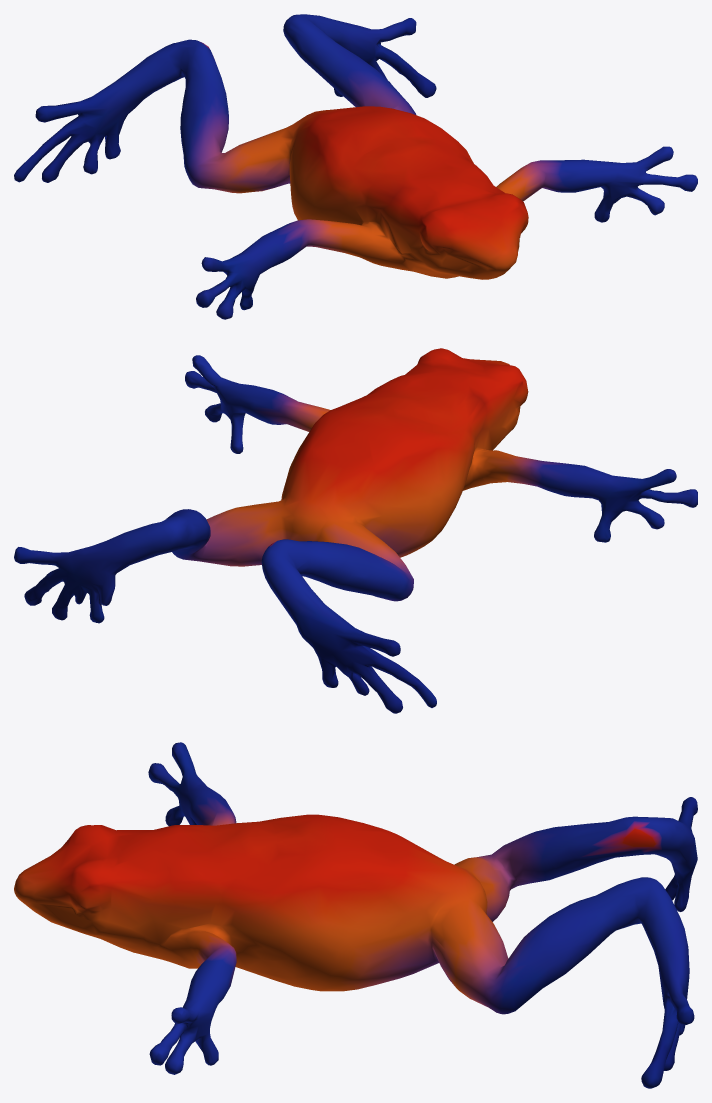
Rendered from strawberry.swim.lo.glb.
3 views of the same model, one above another, from view 1: azimuth 30°, elevation 25°; view 2: azimuth 150°, elevation 25°; view 3: azimuth 270°, elevation 25° (orthographic). The views are drawn at different scales.
Visible parts, largest first — view 1: strawberry.swim; view 2: strawberry.swim; view 3: strawberry.swim.
Boxes of the visible parts, bbox=[...] form: strawberry.swim: bbox=[14, 14, 697, 319]; strawberry.swim: bbox=[14, 348, 697, 713]; strawberry.swim: bbox=[14, 742, 697, 1088].
Size of the model in its own units: 0.0336 by 0.00842 by 0.0338.
